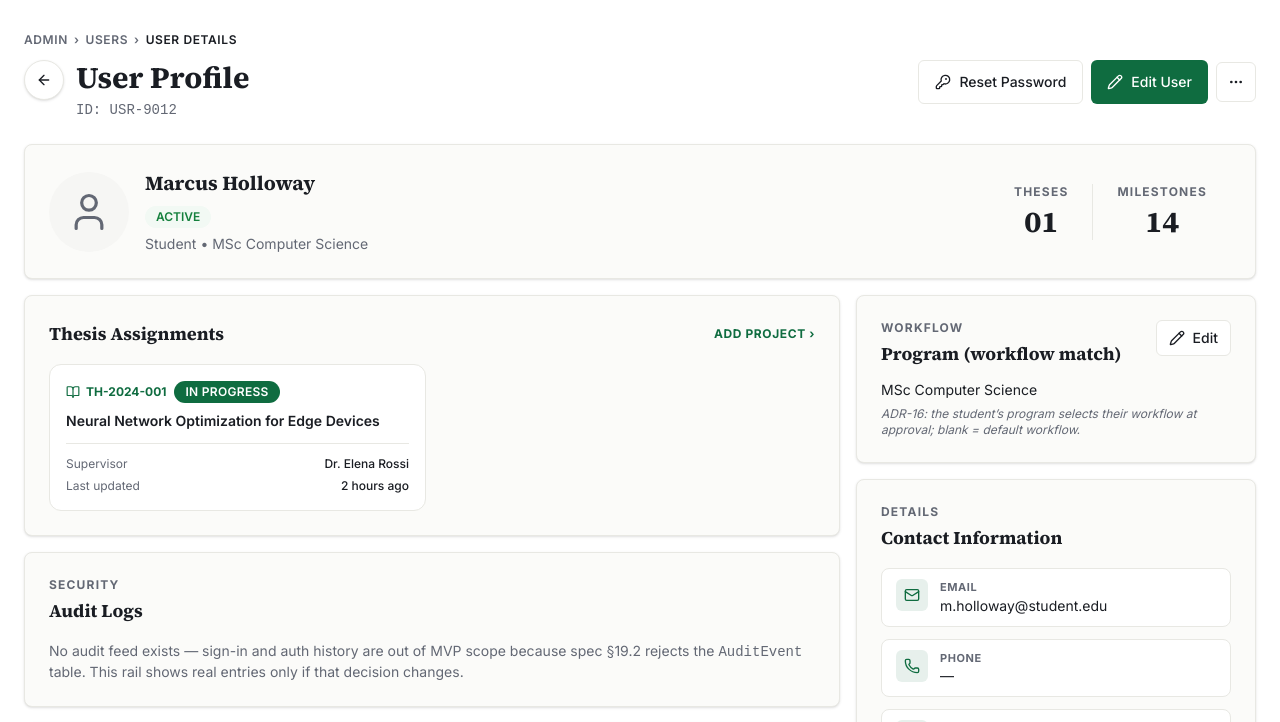
UserProfile program edit (task 13.7 — §11.0.2 / ADR-16) › saves an edited program through PATCH /users/:id
Click the button "Edit" at [1193, 338], box [1156,320,1231,356]
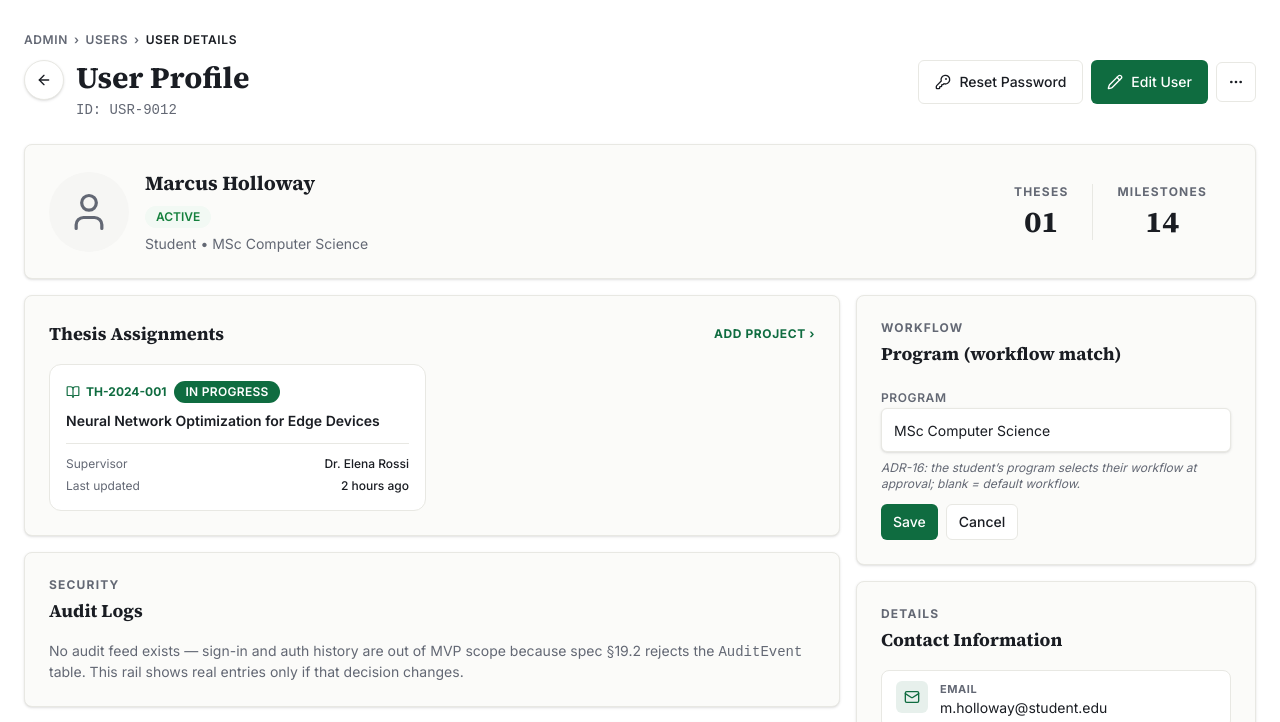
Replace the text in the field labelled "Program" with "Data Science" at [1056, 430], box [881,408,1231,452]
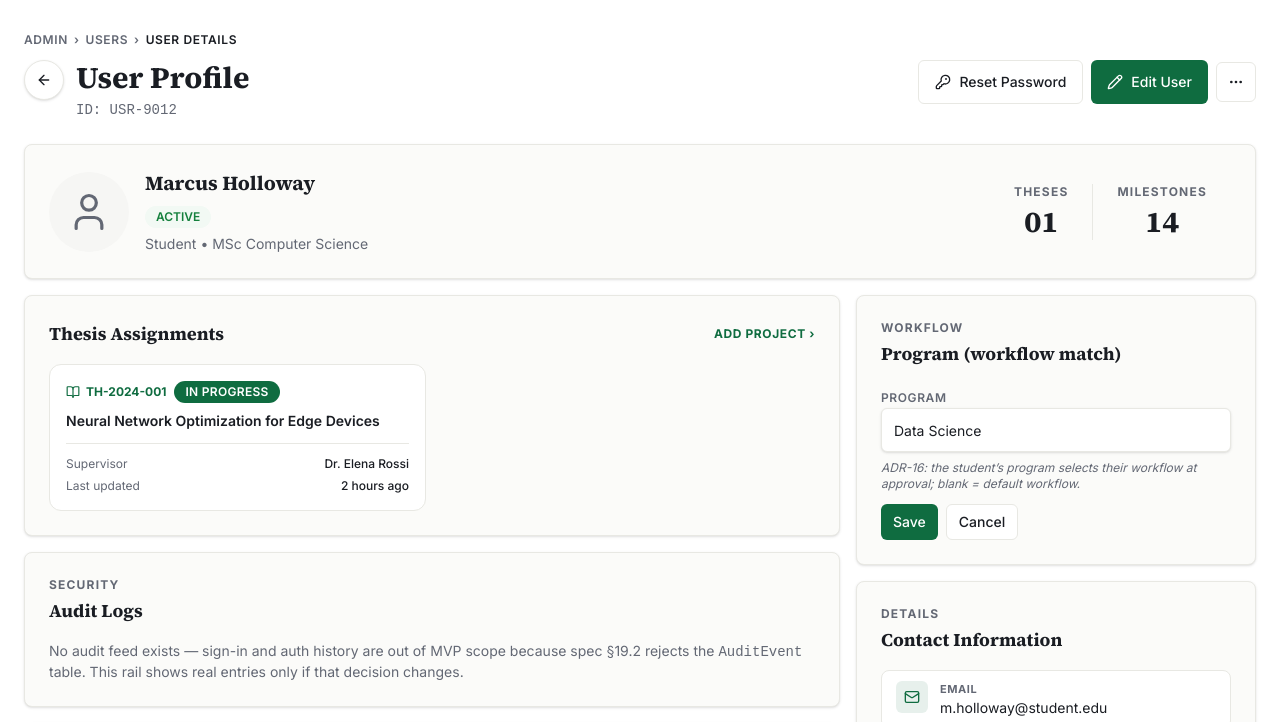
Click the button "Save" at [909, 522], box [881,504,938,540]
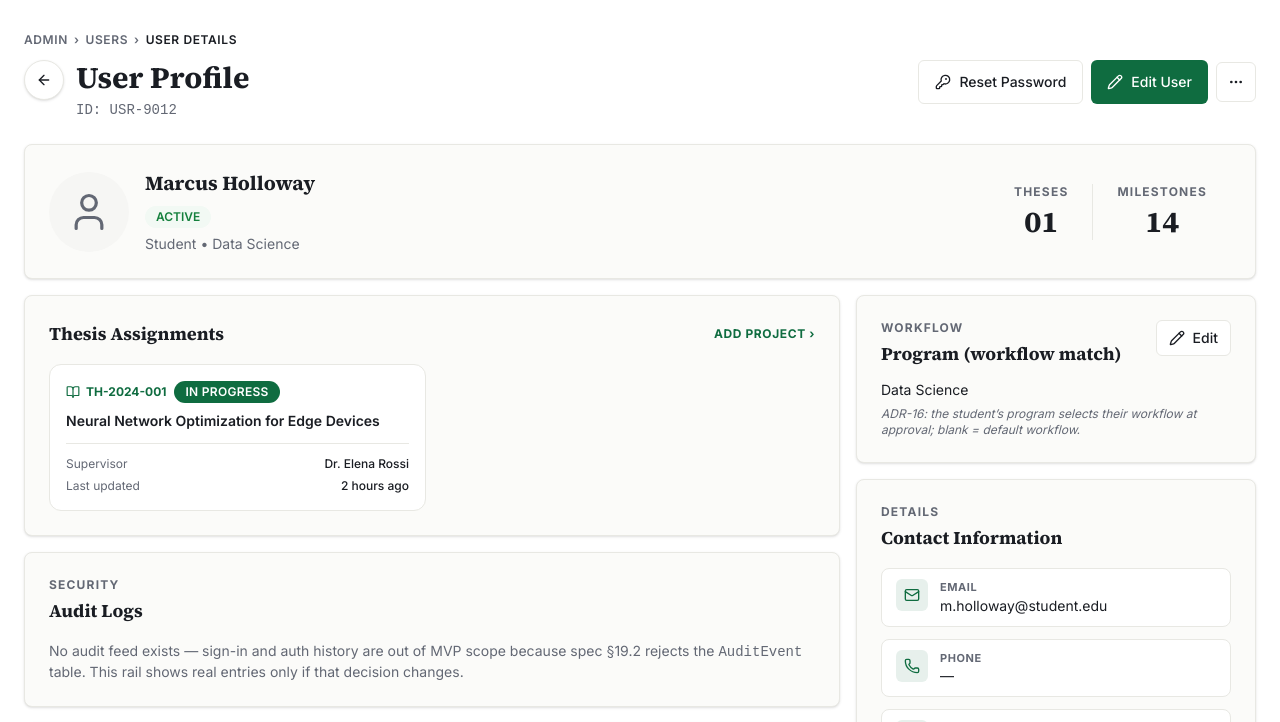
Check: the text "Data Science" is shown, box [881,381,968,398]
Check: the button "Save" is gone
